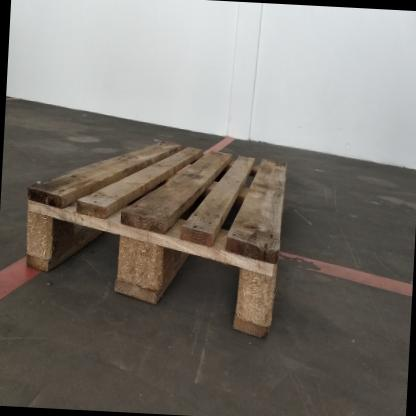BoxFace: (23, 138, 289, 345)
